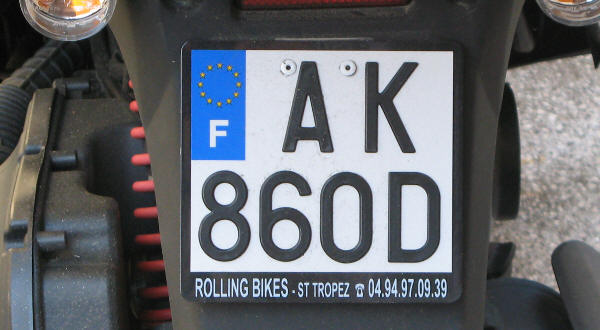license_plate: (181, 42, 462, 305)
